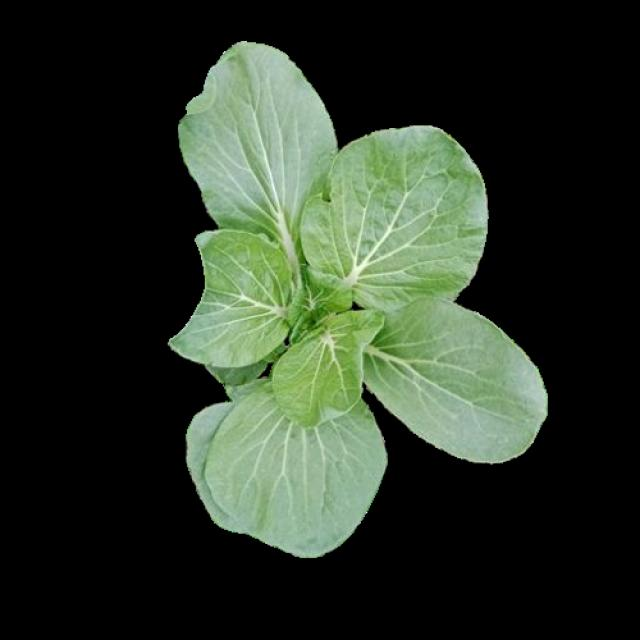mature: (176, 41, 542, 554)
unhealthy: (302, 125, 489, 311), (174, 222, 302, 364)
